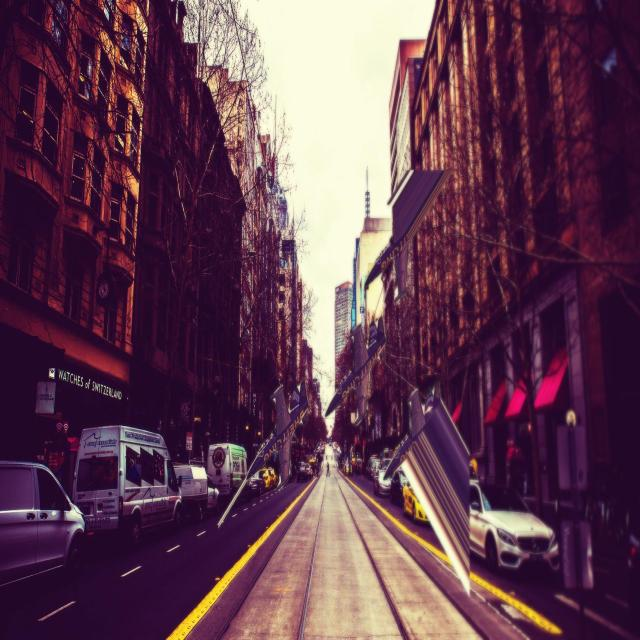airplane: (383, 384, 470, 597), (220, 373, 310, 525), (324, 317, 384, 418)
